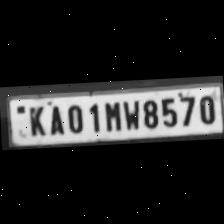0: (194, 90, 216, 124), (63, 100, 85, 132)
1: (83, 99, 101, 133)
5: (158, 93, 178, 127)
7: (176, 92, 196, 126)
8: (139, 94, 159, 128)
A: (44, 101, 64, 135)
K: (24, 102, 46, 136)
M: (99, 97, 121, 130)
W: (119, 96, 138, 130)
